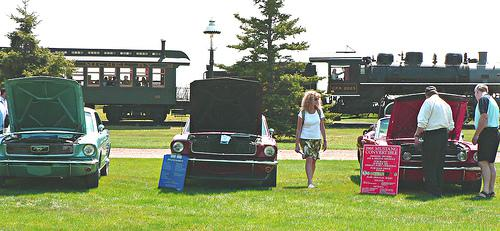Train: (311, 51, 500, 122), (46, 39, 191, 125)
